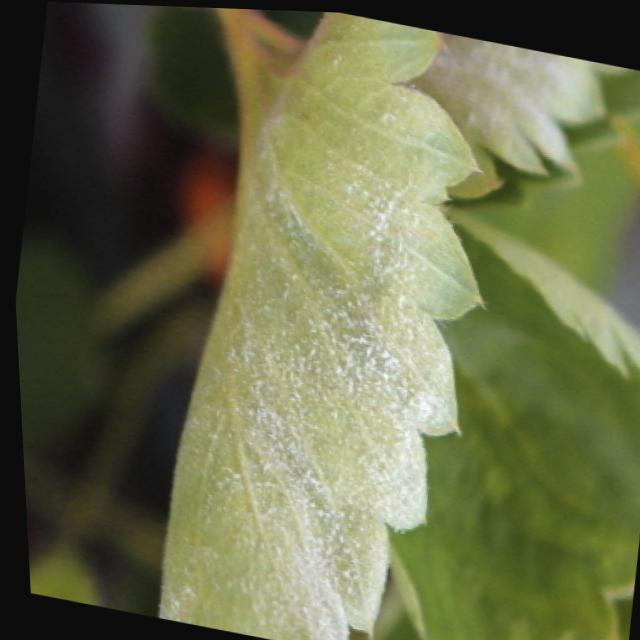Powdery Mildew Leaf: (149, 9, 483, 640), (384, 202, 640, 640), (404, 28, 640, 208)
